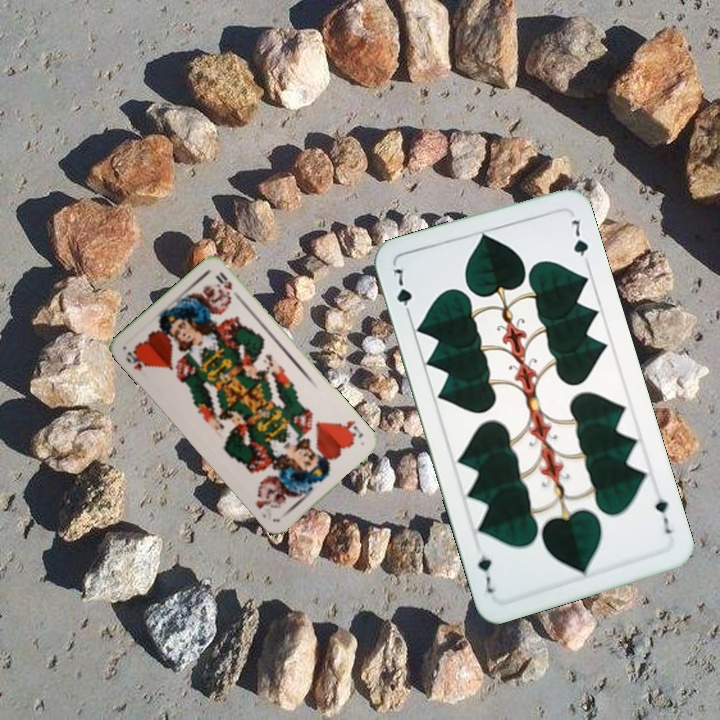G7: (389, 262, 415, 321), (651, 494, 674, 537)
HO: (121, 347, 152, 374), (335, 416, 366, 442)
